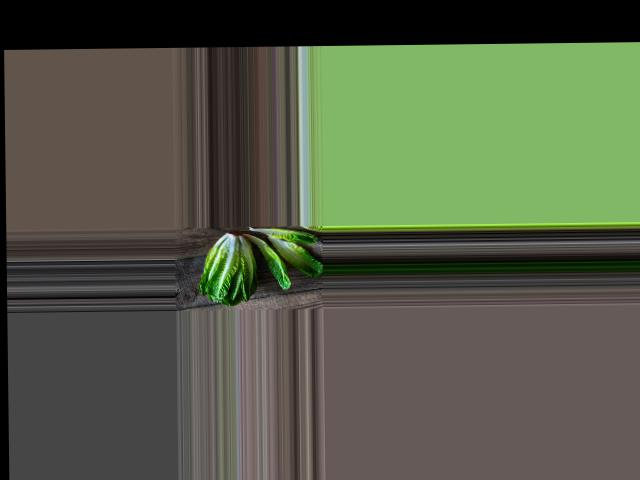lettuce: (196, 234, 260, 305)
